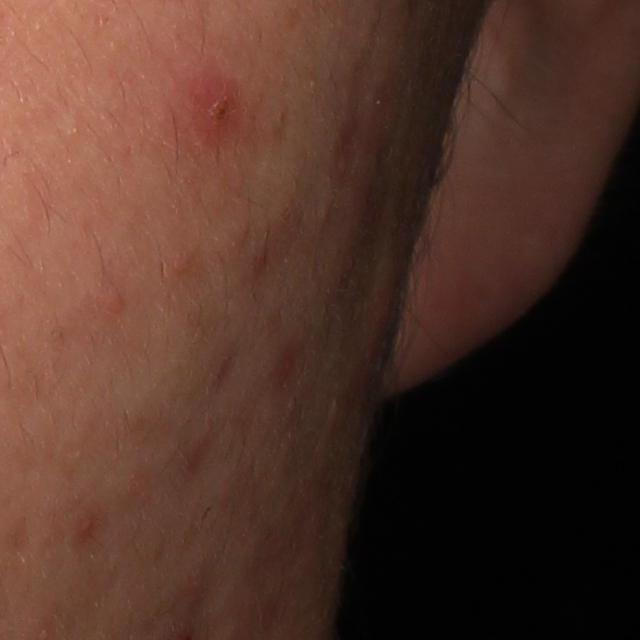papule: (187, 81, 240, 151), (76, 512, 101, 540)
